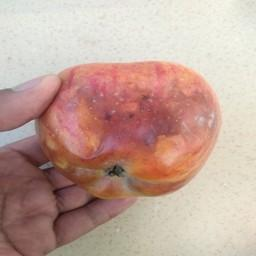Bad_apple: (35, 46, 223, 202)
